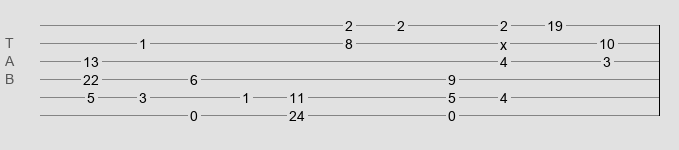0: (190, 108, 198, 118), (448, 108, 456, 118)
1: (139, 36, 147, 46), (242, 90, 250, 100)
10: (599, 36, 615, 46)
11: (289, 90, 305, 100)
13: (83, 54, 99, 64)
19: (547, 18, 563, 28)
2: (345, 18, 353, 28), (397, 18, 405, 28), (500, 18, 508, 28)
22: (83, 72, 99, 82)
24: (289, 108, 305, 118)
3: (139, 90, 147, 100), (603, 54, 611, 64)
4: (500, 90, 508, 100), (500, 54, 508, 64)
5: (87, 90, 95, 100), (448, 90, 456, 100)
6: (190, 72, 198, 82)
8: (345, 36, 353, 46)
9: (448, 72, 456, 82)
x: (500, 37, 507, 45)
